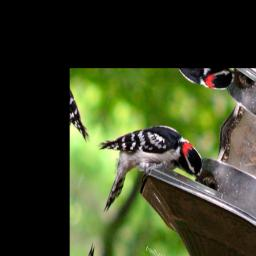Woodpecker: (78, 93, 215, 256)
